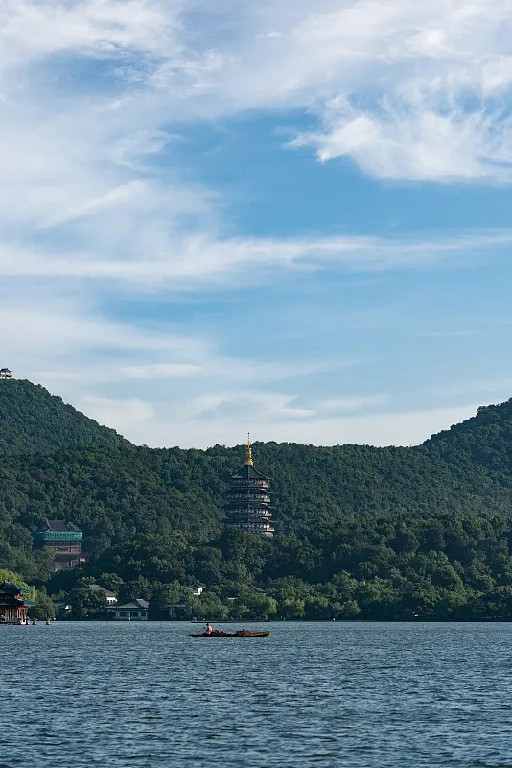Leifeng: (220, 432, 278, 542)
